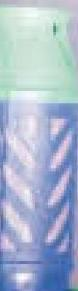cylinder: (0, 1, 78, 291)
